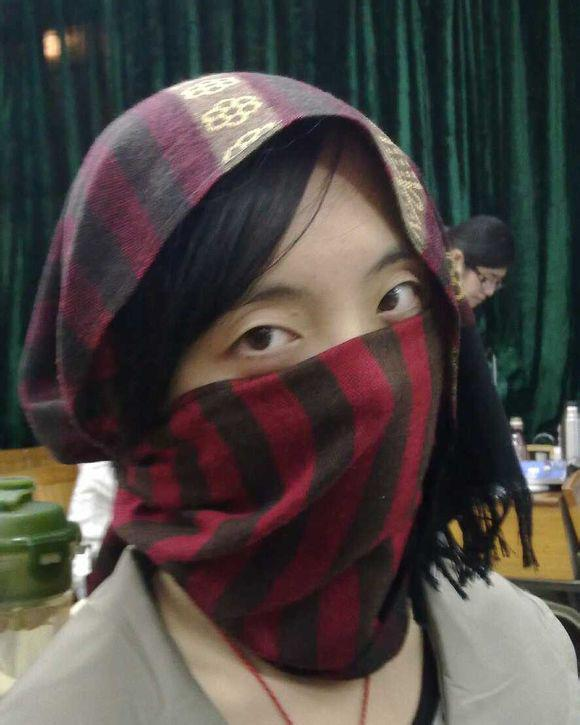NONE: (459, 266, 508, 309)
OK: (175, 225, 446, 571)
